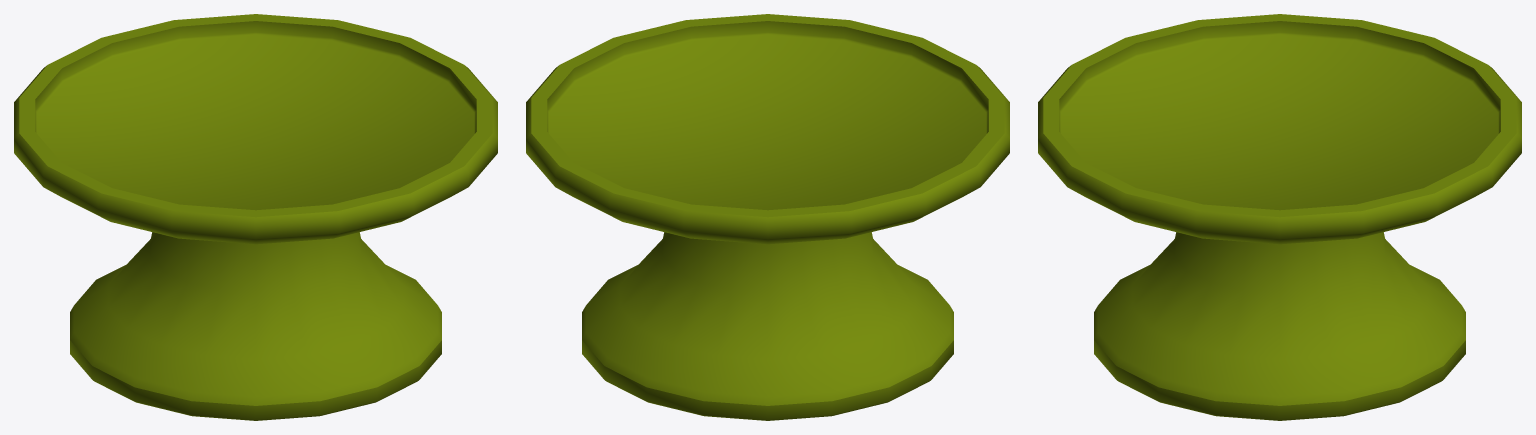
The model's file is st2_bowl_04.fbx.
The picture shows the model from 3 angles, left to right: view 1: azimuth 30°, elevation 25°; view 2: azimuth 150°, elevation 25°; view 3: azimuth 270°, elevation 25°; orthographic projection.
Parts seen in each view (by area): view 1: stage2_bowl_04_v1; view 2: stage2_bowl_04_v1; view 3: stage2_bowl_04_v1.
Part boxes in pixels (x1,y1,x2,y2): stage2_bowl_04_v1: [14, 14, 497, 420]; stage2_bowl_04_v1: [526, 14, 1009, 420]; stage2_bowl_04_v1: [1038, 14, 1521, 420].
Bounding box in the file's own units: 182 × 92.76 × 180.
